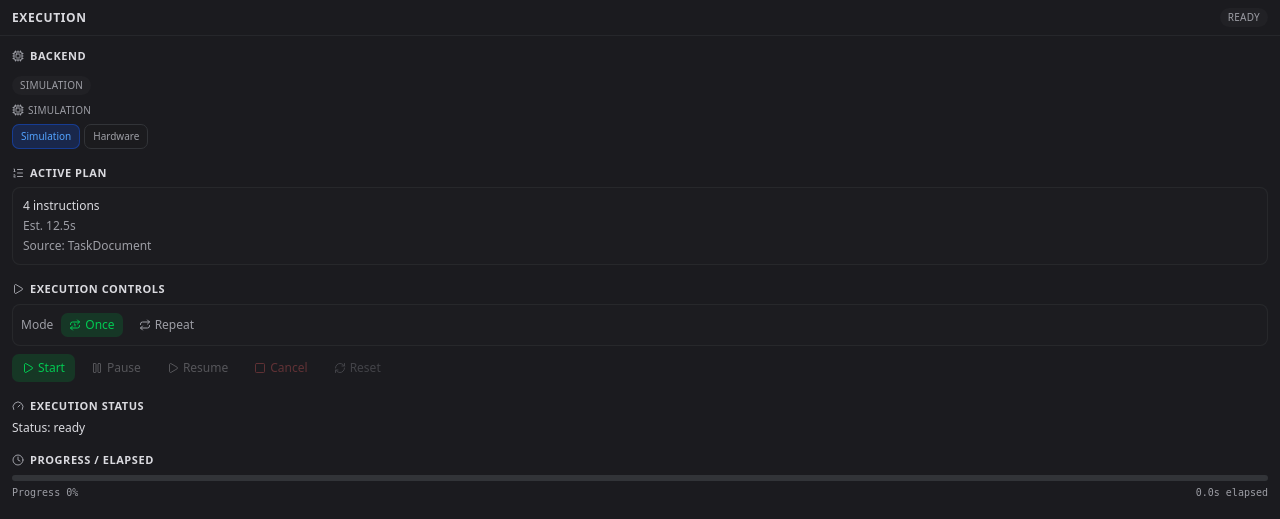
Test: Connect — connect+retry when start fails with not_connected (R3-001) › a start failure with not_connected surfaces the error and a Connect CTA (not a silent 200)
Click the button "Start". click: (44, 368)
box: [12, 354, 75, 382]
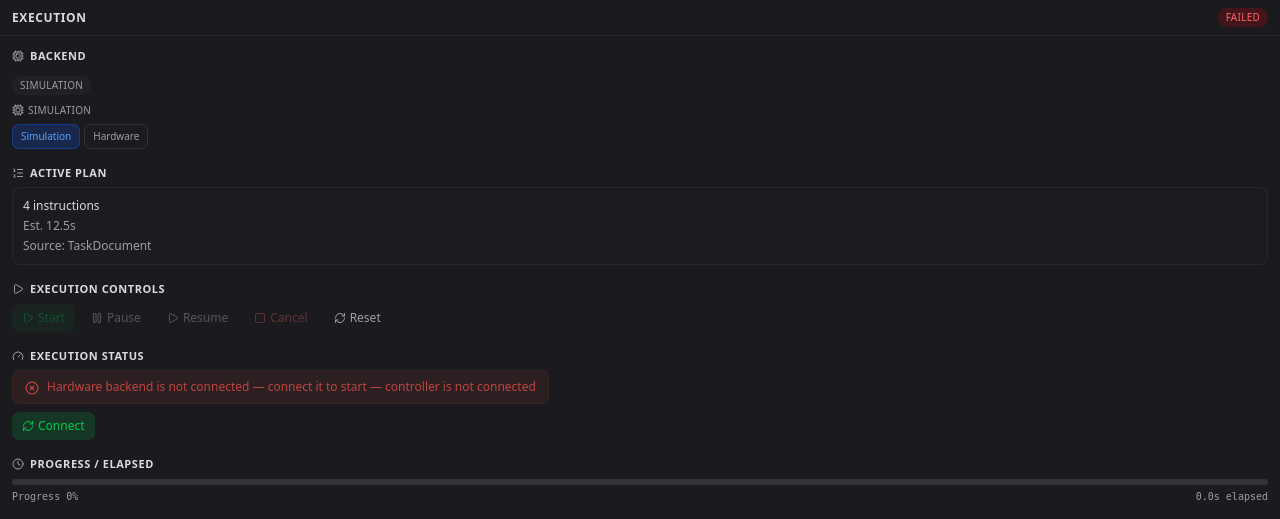
Result: the text "controller is not connected" is shown at [47, 378, 536, 395]
Result: the button "Connect" is shown at [12, 412, 94, 440]
